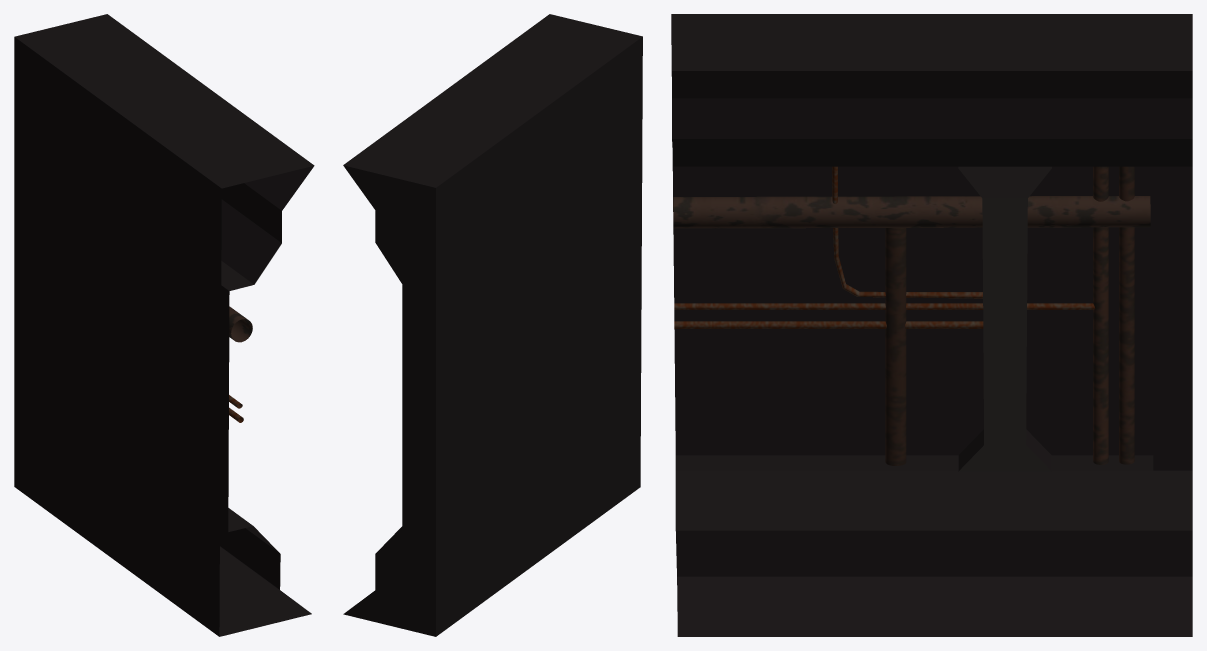
File: wall2 sideb.obj
3 renders of one model, left to right at view 1: azimuth 30°, elevation 25°; view 2: azimuth 150°, elevation 25°; view 3: azimuth 270°, elevation 25°, orthographic. The views are drawn at different scales.
Parts seen in each view (by area): view 1: pCube1, pCylinder1; view 2: pCube1; view 3: pCube1, pCube3, pCylinder1, pCylinder9, pCylinder11, pCylinder10, pCylinder8, pCylinder6, pTorus3.
Part boxes in pixels (x1,y1,x2,y2): pCube1: [14, 14, 314, 636]; pCylinder1: [229, 306, 252, 342]; pCube1: [343, 14, 642, 636]; pCube1: [671, 14, 1192, 636]; pCube3: [958, 166, 1051, 471]; pCylinder1: [673, 196, 1150, 228]; pCylinder9: [885, 228, 906, 465]; pCylinder11: [1093, 166, 1108, 464]; pCylinder10: [1119, 166, 1134, 464]; pCylinder8: [674, 303, 1094, 309]; pCylinder6: [674, 321, 983, 328]; pTorus3: [833, 228, 982, 298].
Bounding box in the file's own units: 3.31 × 15.29 × 12.77.
1 material, 1 textured.
